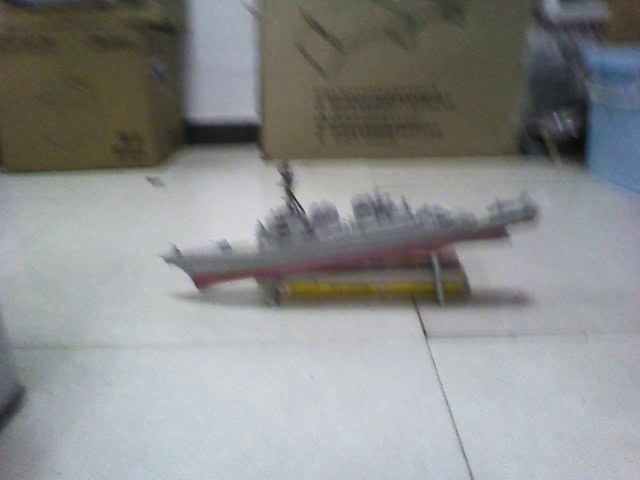warship: (152, 164, 546, 261)
